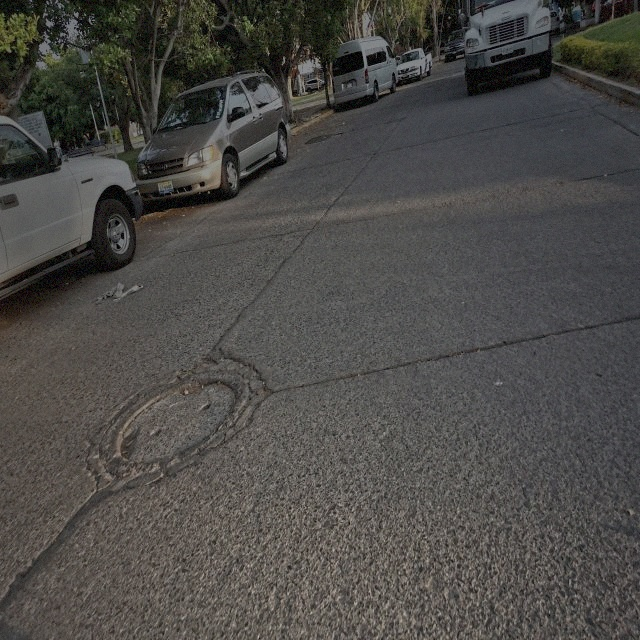pothole: (118, 416, 138, 466), (176, 372, 204, 396)
